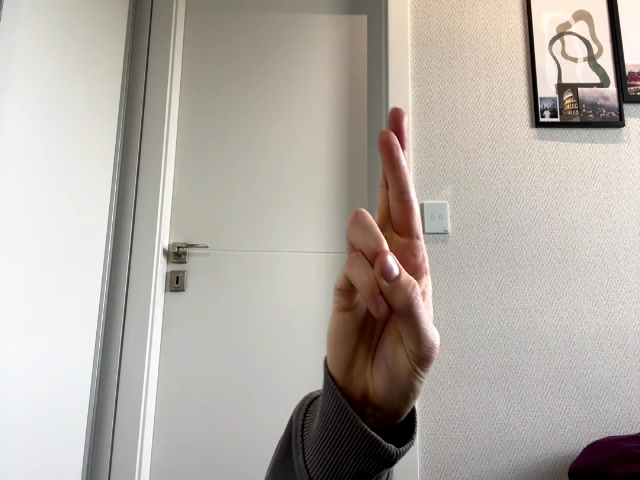R: (329, 108, 440, 399)
